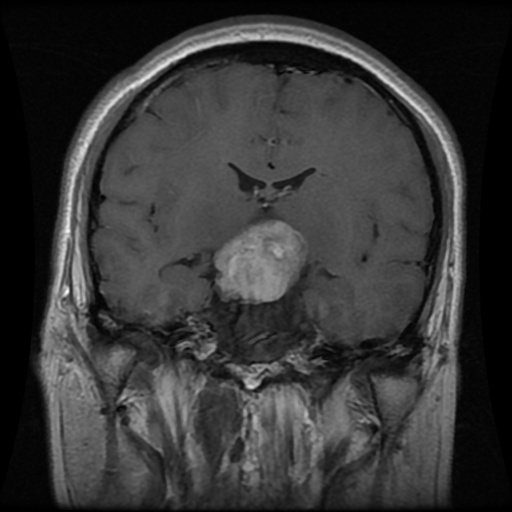pituitary: (215, 218, 310, 300)
